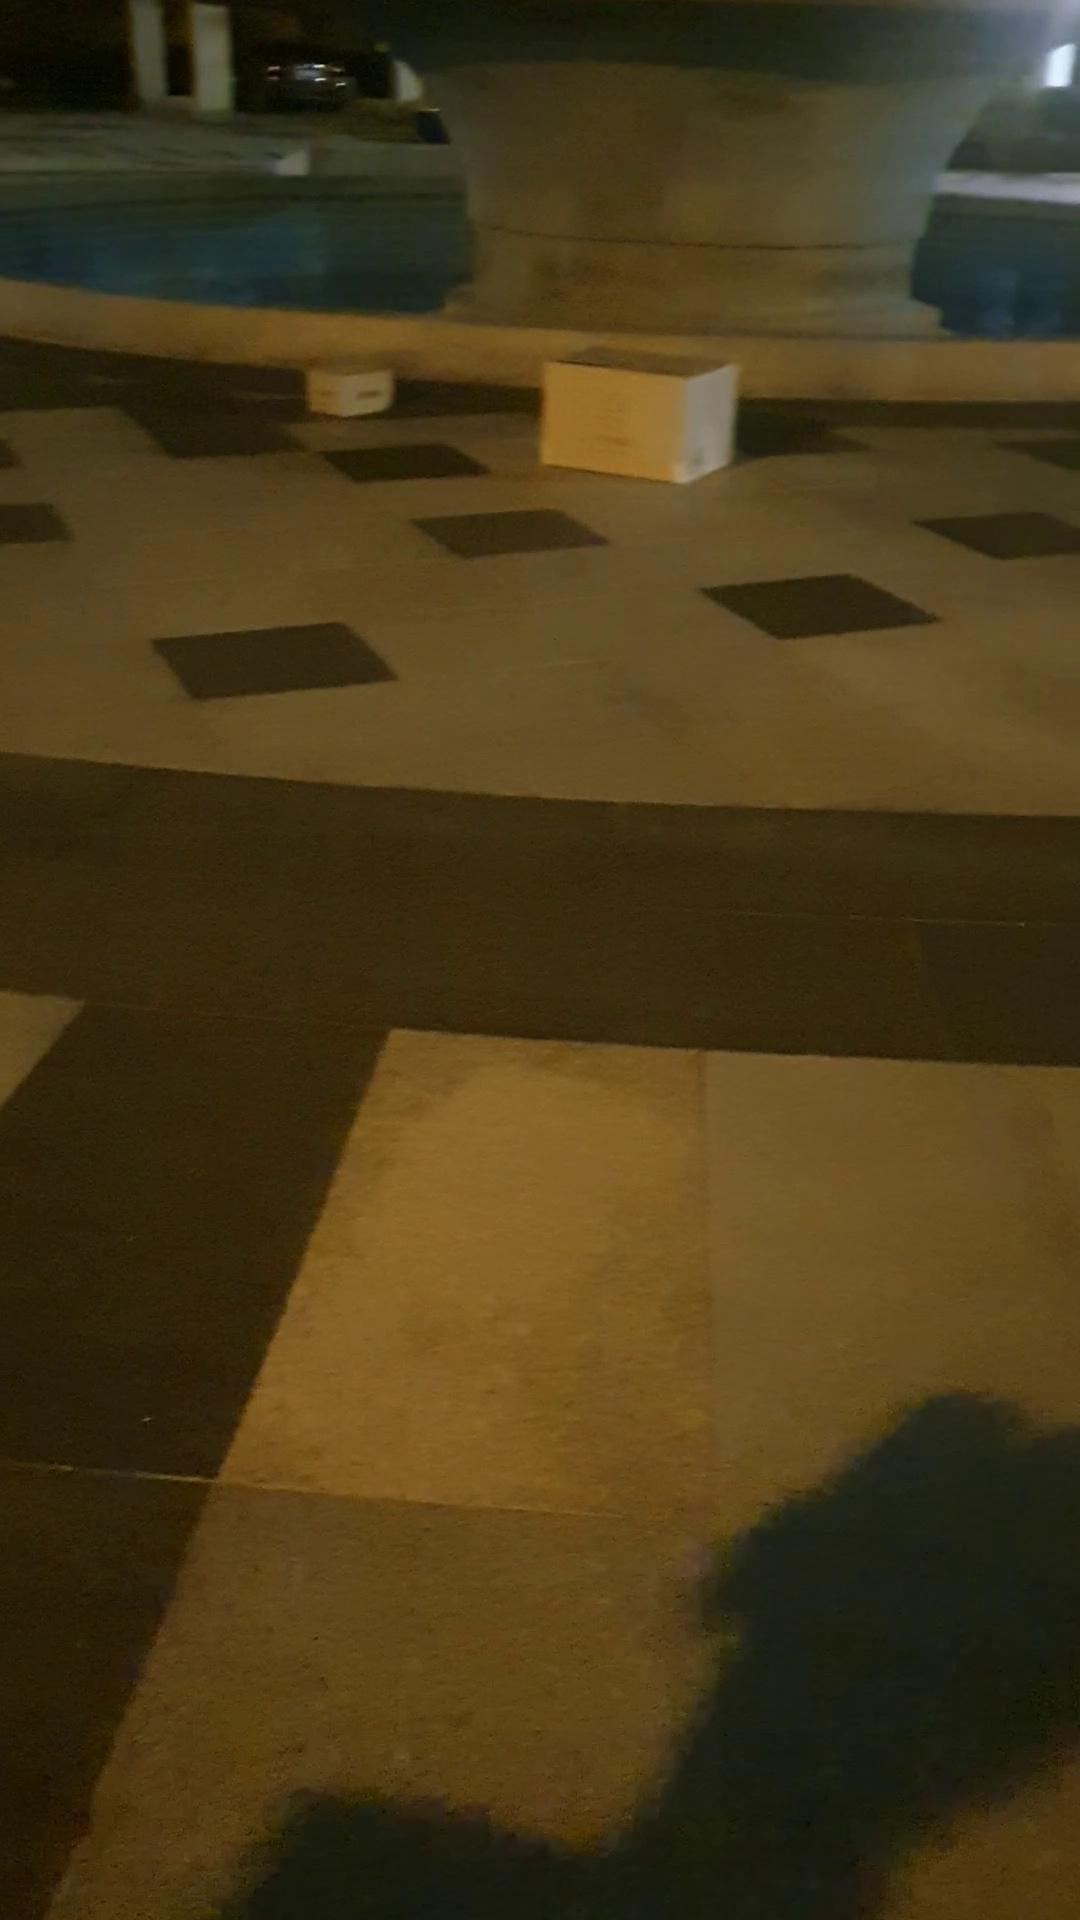Box: (521, 328, 752, 498), (286, 343, 410, 438)
